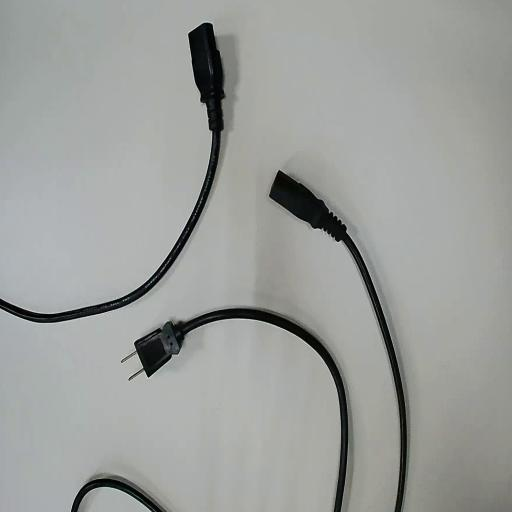wire: (0, 24, 224, 321), (270, 172, 406, 511), (136, 309, 347, 511)
